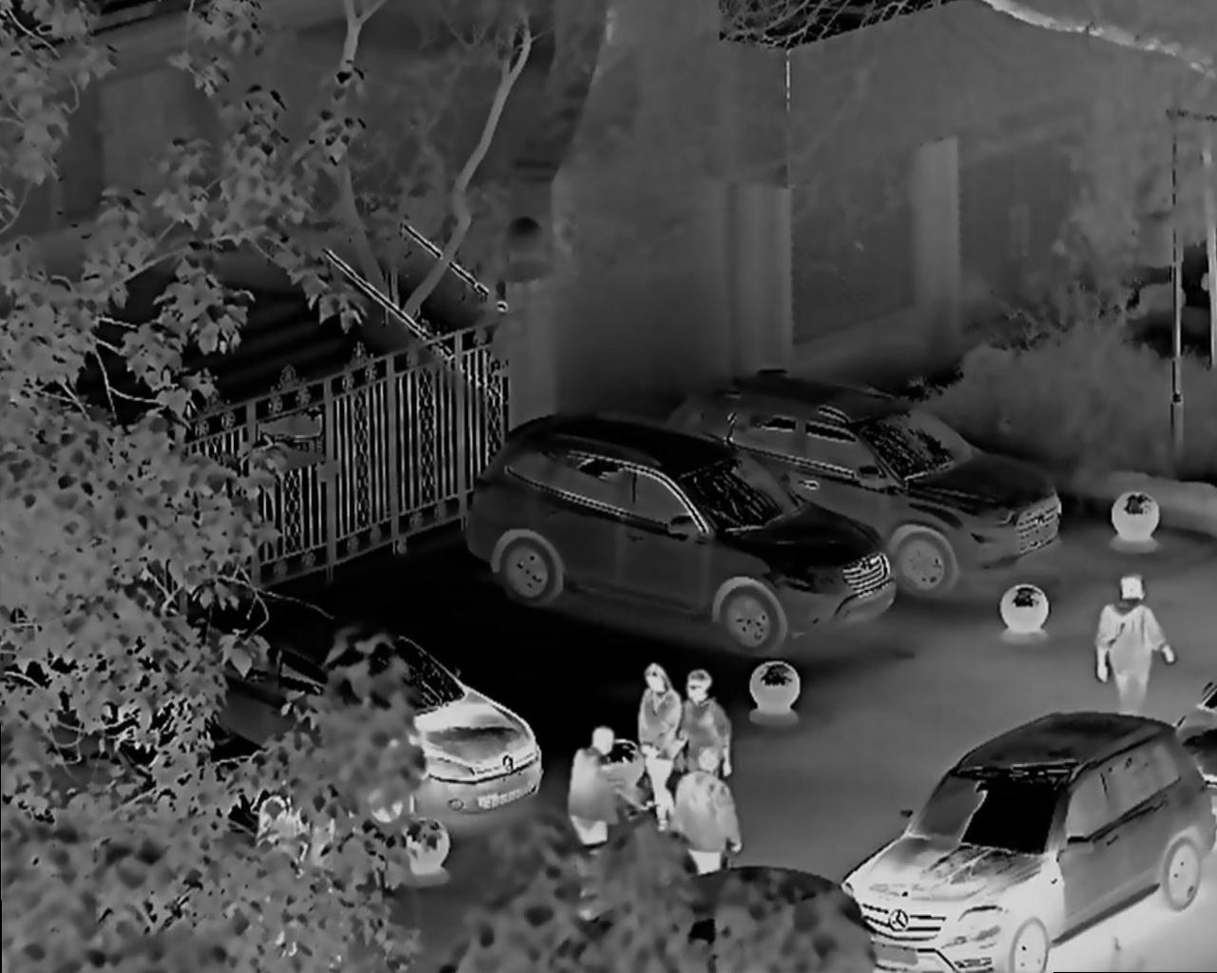person: (1093, 577, 1178, 719), (673, 739, 739, 888), (568, 717, 639, 849), (633, 660, 679, 820), (682, 664, 741, 756)
